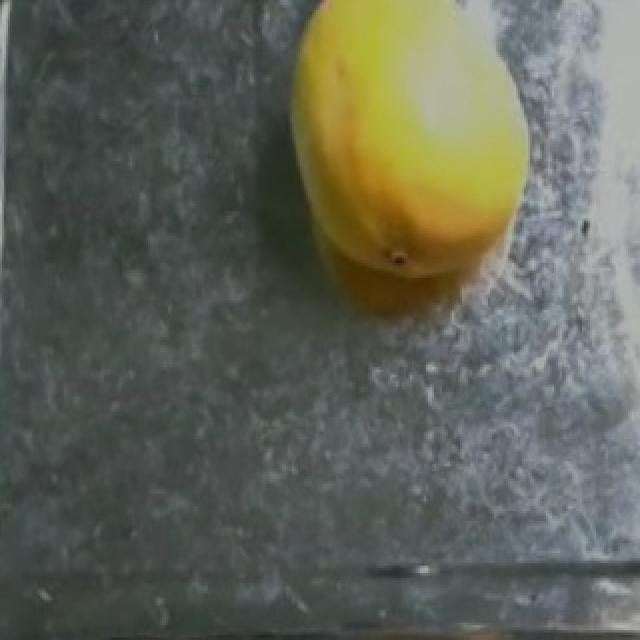fruit: (258, 0, 578, 313)
